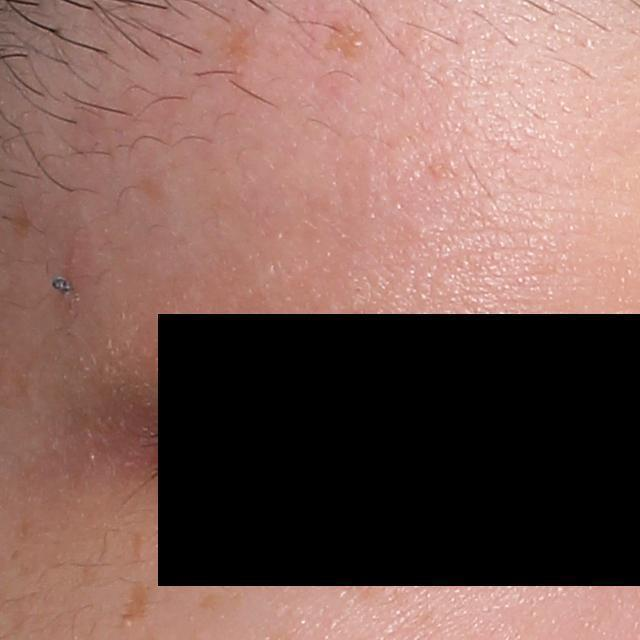melasma: (127, 578, 154, 621), (129, 530, 147, 566), (197, 592, 225, 613)
